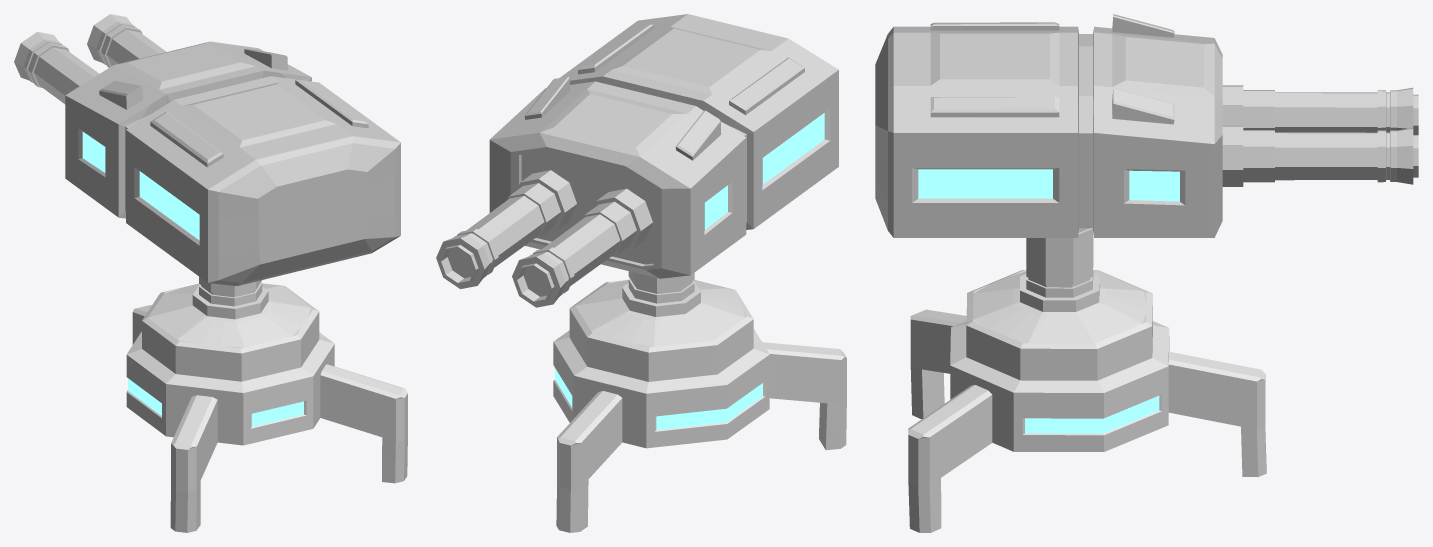
Rendered from SM_turret.fbx.
3 views of the same model, side by side, from view 1: azimuth 30°, elevation 25°; view 2: azimuth 150°, elevation 25°; view 3: azimuth 270°, elevation 25° (orthographic). The views are drawn at different scales.
Parts seen in each view (by area): view 1: Turret Head, Turret Base; view 2: Turret Head, Turret Base; view 3: Turret Head, Turret Base.
Boxes of the visible parts, x1,y1,x2,y2 form: Turret Head: (14,14,400,285); Turret Base: (126,277,407,532); Turret Head: (436,14,838,307); Turret Base: (553,271,846,532); Turret Head: (875,14,1418,237); Turret Base: (908,228,1266,532).
Bounding box in the file's own units: 59.48 × 91.17 × 107.
